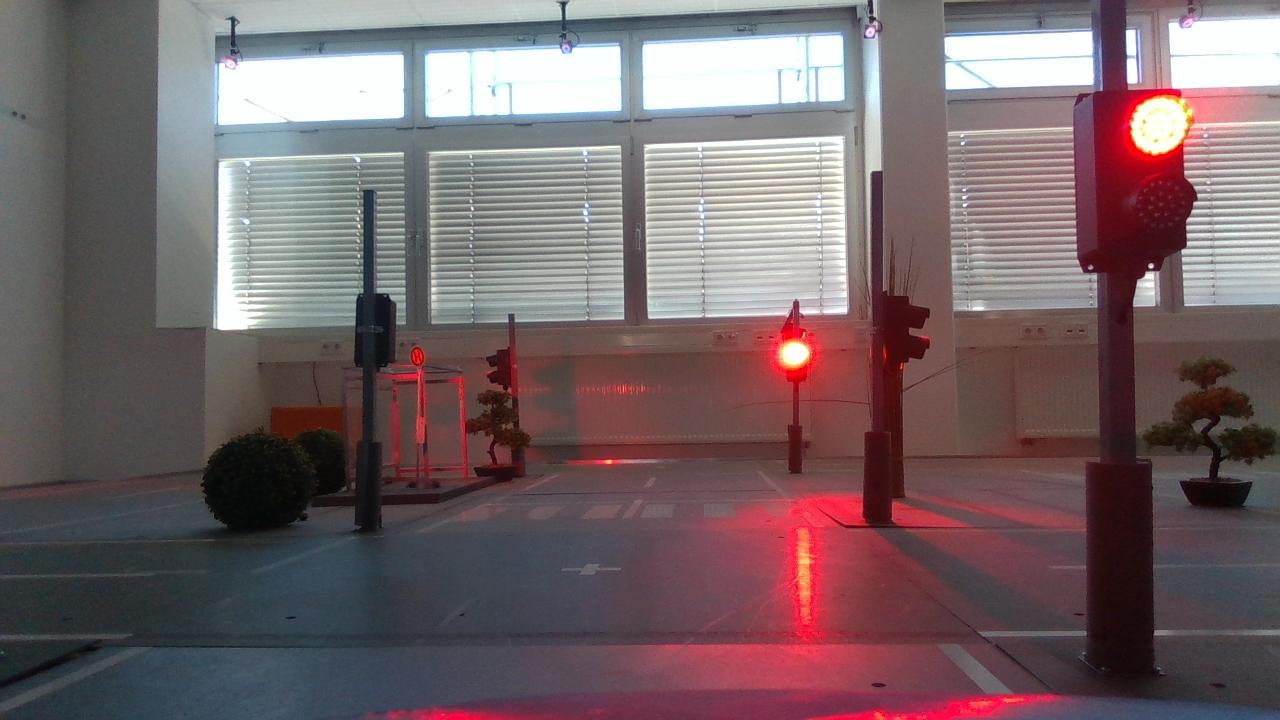traffic_light_red: (1036, 74, 1226, 286)
